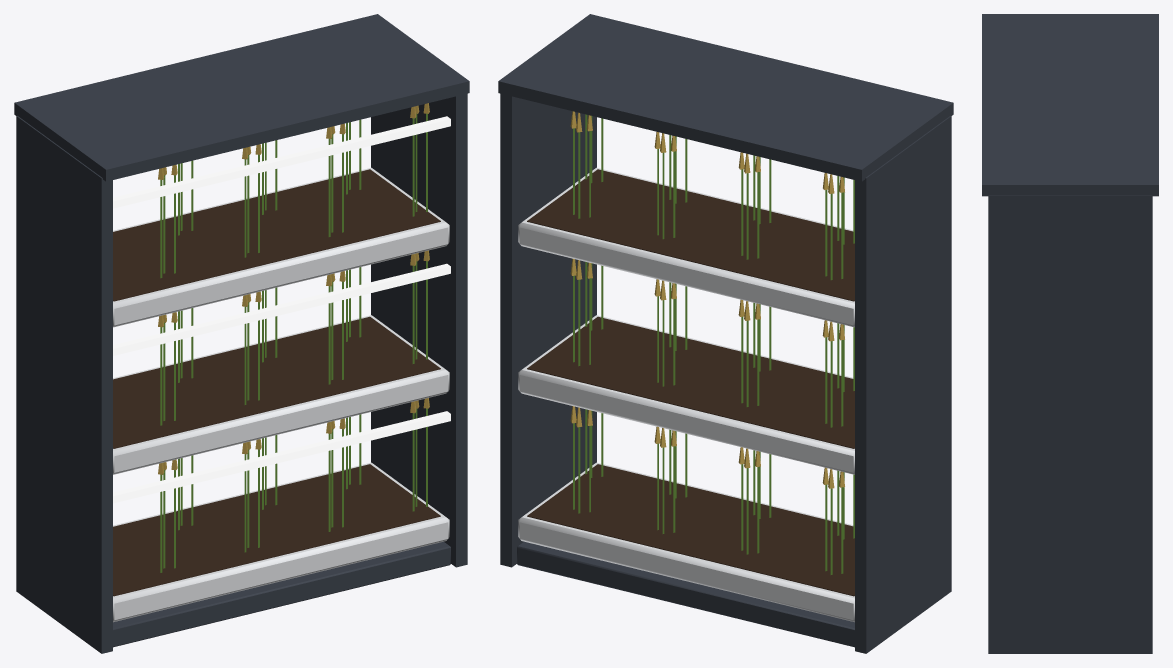
The model's file is planter_wheat_tray_bed.glb.
The picture shows the model from 3 angles, left to right: view 1: azimuth 30°, elevation 25°; view 2: azimuth 150°, elevation 25°; view 3: azimuth 270°, elevation 25°; orthographic projection. The views are drawn at different scales.
Parts seen in each view (by area): view 1: planter_wheat_tray_bed; view 2: planter_wheat_tray_bed; view 3: planter_wheat_tray_bed.
Part boxes in pixels (x1,y1,x2,y2): planter_wheat_tray_bed: [14, 14, 469, 653]; planter_wheat_tray_bed: [498, 14, 953, 653]; planter_wheat_tray_bed: [982, 14, 1158, 653].
Size of the model in its own units: 1.61 by 2.05 by 0.7.
